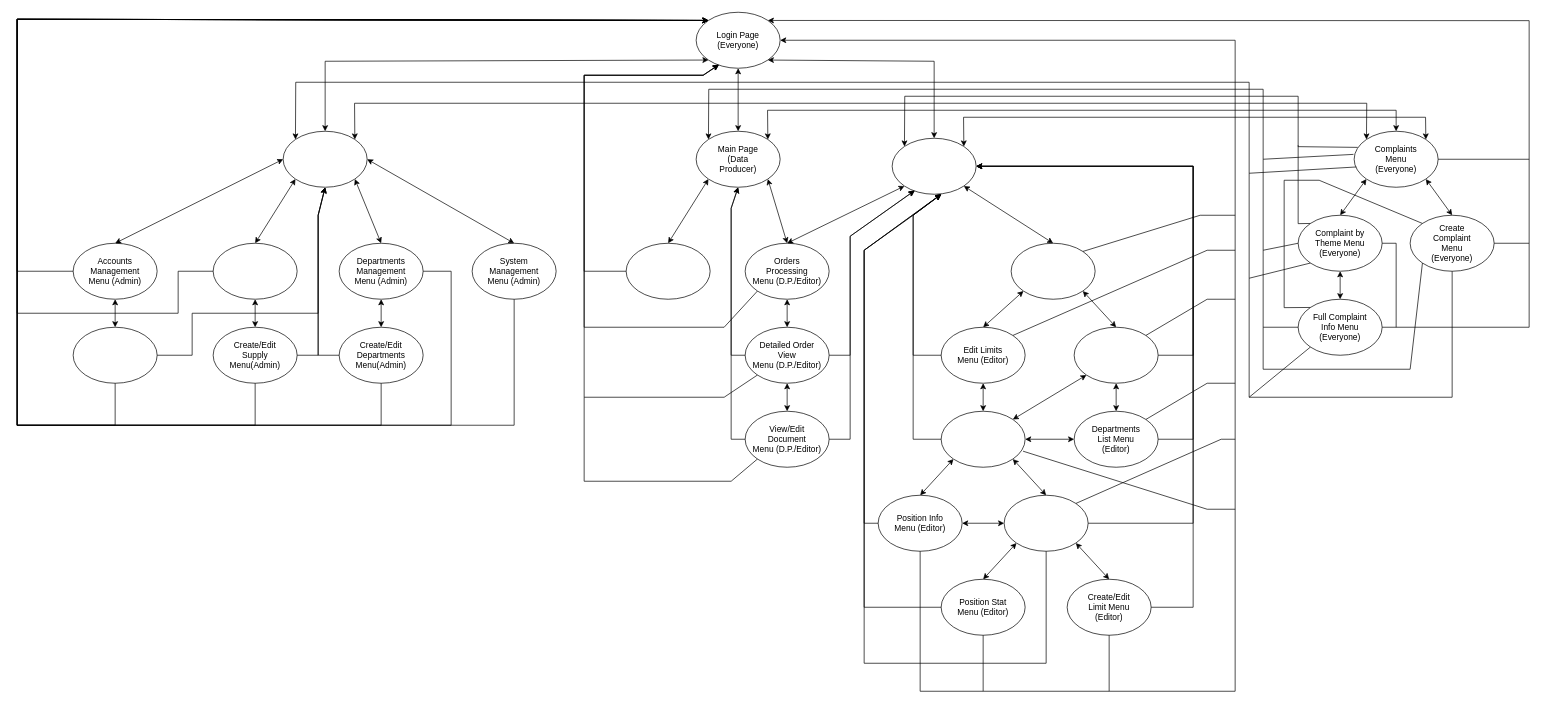
Some shapes in this 1547 by 709 pixel diagram are drawn without their labels. The shapes that lost their labels are listed below. From the top down, each one's box as (x1, y1, x2, y2) in pixels, then its label:
(282, 131, 367, 187): Main Page (Admin)
(891, 138, 976, 194): Main Page (Editor)
(212, 243, 297, 299): Supply Management Menu (Admin)
(625, 243, 710, 299): Upload Data Menu (Data Producer)
(1010, 243, 1095, 299): Limits Management Menu (Editor)
(72, 327, 157, 383): Create/Edit Accounts Menu(Admin)
(1073, 327, 1158, 383): Identify Limits Menu (Editor)
(940, 411, 1025, 467): Positions List Menu (Editor)
(1003, 495, 1088, 551): Detailed Position Info Menu (Editor)
